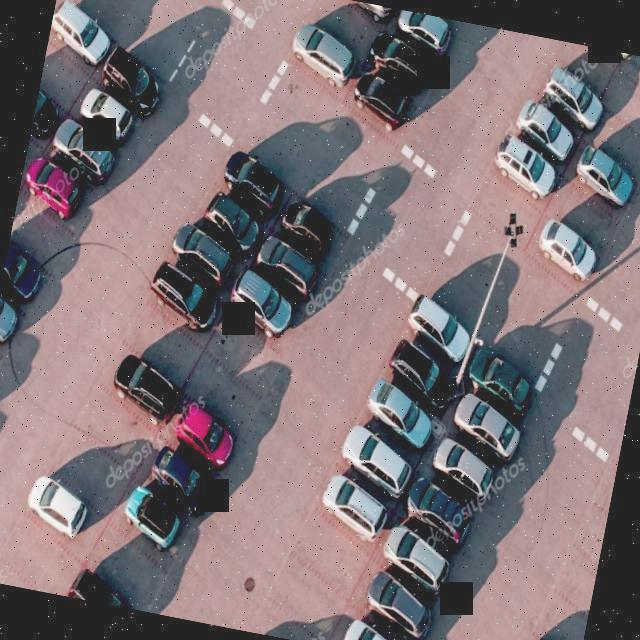car: (13, 464, 107, 572), (142, 255, 226, 340), (104, 346, 189, 430), (112, 479, 188, 572), (393, 293, 478, 375), (283, 15, 364, 96), (378, 334, 457, 417), (532, 218, 605, 306), (210, 150, 292, 228), (223, 261, 296, 348), (274, 189, 346, 277), (458, 351, 540, 428), (360, 373, 440, 451), (438, 390, 520, 466), (334, 420, 412, 498), (396, 472, 476, 548), (312, 471, 388, 551), (342, 66, 418, 146), (166, 212, 240, 294), (562, 140, 640, 217), (484, 126, 559, 206), (359, 26, 444, 95), (249, 224, 323, 303), (44, 0, 119, 77), (378, 527, 457, 600), (22, 152, 94, 232), (164, 401, 234, 476), (146, 439, 214, 513), (95, 44, 163, 118), (362, 566, 434, 634), (202, 190, 270, 262), (424, 434, 498, 500), (46, 120, 116, 188), (67, 86, 139, 152), (512, 101, 582, 162), (535, 74, 607, 131), (0, 246, 46, 319), (389, 9, 456, 49), (28, 90, 61, 151), (341, 612, 407, 640), (0, 279, 24, 355)
free: (68, 375, 160, 477), (46, 420, 134, 519), (84, 518, 172, 614), (287, 501, 374, 596), (0, 509, 91, 598), (262, 553, 348, 640), (548, 164, 628, 255), (124, 302, 206, 384), (184, 358, 259, 438), (208, 304, 280, 382), (5, 188, 72, 270), (469, 178, 543, 236), (588, 114, 640, 189), (529, 584, 592, 640), (38, 34, 88, 102), (544, 39, 616, 85), (599, 68, 640, 146), (311, 0, 377, 36), (616, 53, 640, 106)
